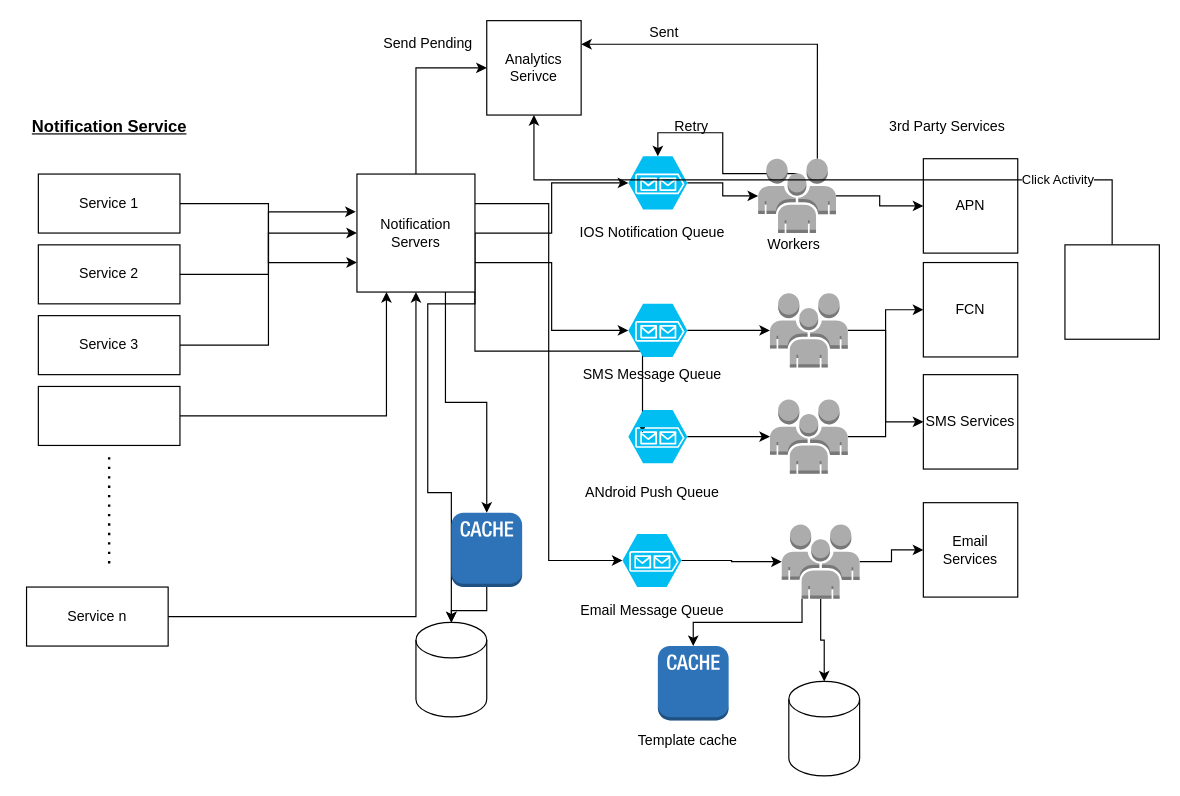
Image size: 1180x796. Some labels were removed from this diagram. Here are the shapes that lost their labels. From the top down, the box of each, then its label:
(1064, 244, 1159, 339): Devices
(37, 385, 180, 445): Service 4
(415, 621, 487, 717): DB
(788, 680, 860, 776): Notification Logs
